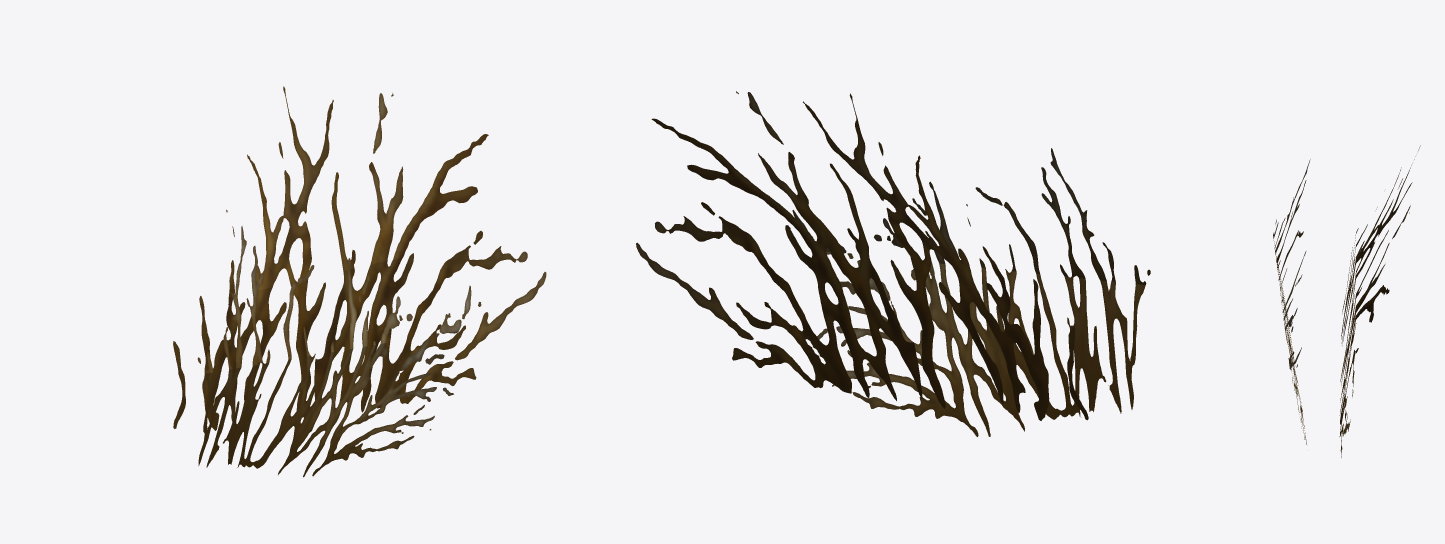
File: Map03P_01.FBX
The picture shows the model from 3 angles, left to right: view 1: azimuth 30°, elevation 25°; view 2: azimuth 150°, elevation 25°; view 3: azimuth 270°, elevation 25°; orthographic projection. The views are drawn at different scales.
Visible parts, largest first — view 1: Map03P_01; view 2: Map03P_01; view 3: Map03P_01.
Boxes of the visible parts, x1,y1,x2,y2 form: Map03P_01: (173, 86, 546, 477); Map03P_01: (636, 91, 1150, 436); Map03P_01: (1273, 145, 1420, 457).
Size of the model in its own units: 15.61 by 4.93 by 10.74.
